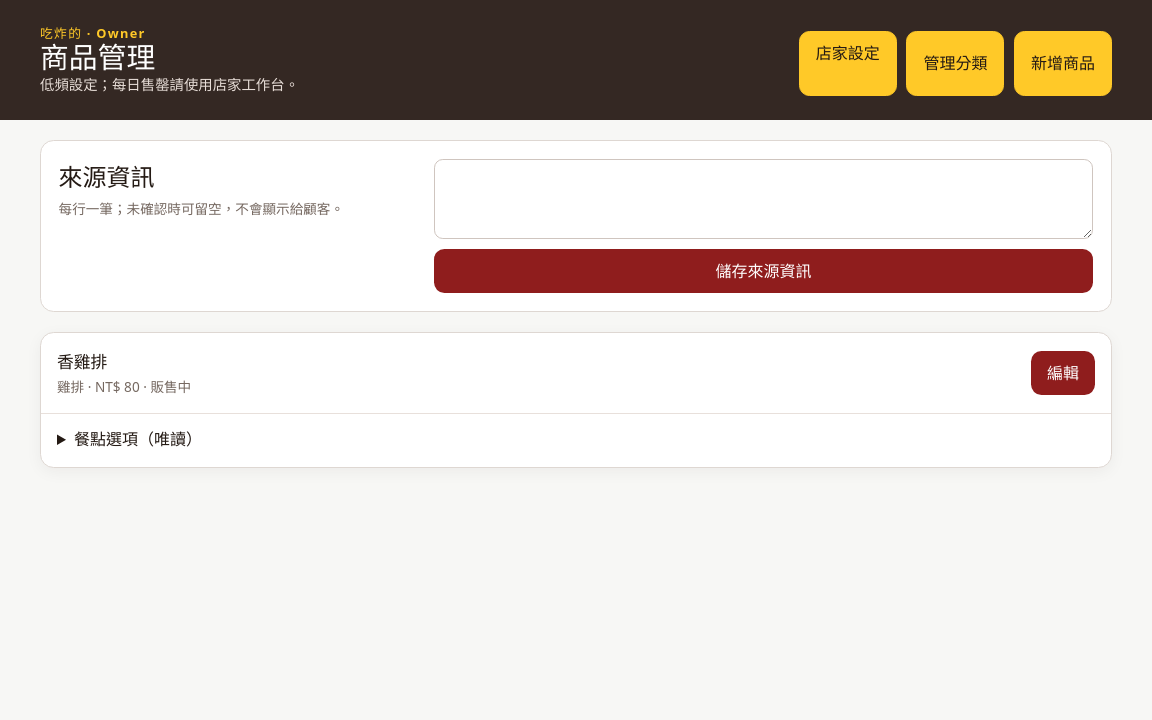
Scenario: Admin menu UI › renders only on the explicit Admin route with read-only modifier visibility
Expected: the heading "商品管理" is shown, [40, 37, 155, 76]
Expected: the heading "香雞排" is shown, [57, 350, 107, 373]
Click the heading "餐點選項（唯讀）".
click(138, 439)  # box [74, 428, 202, 450]
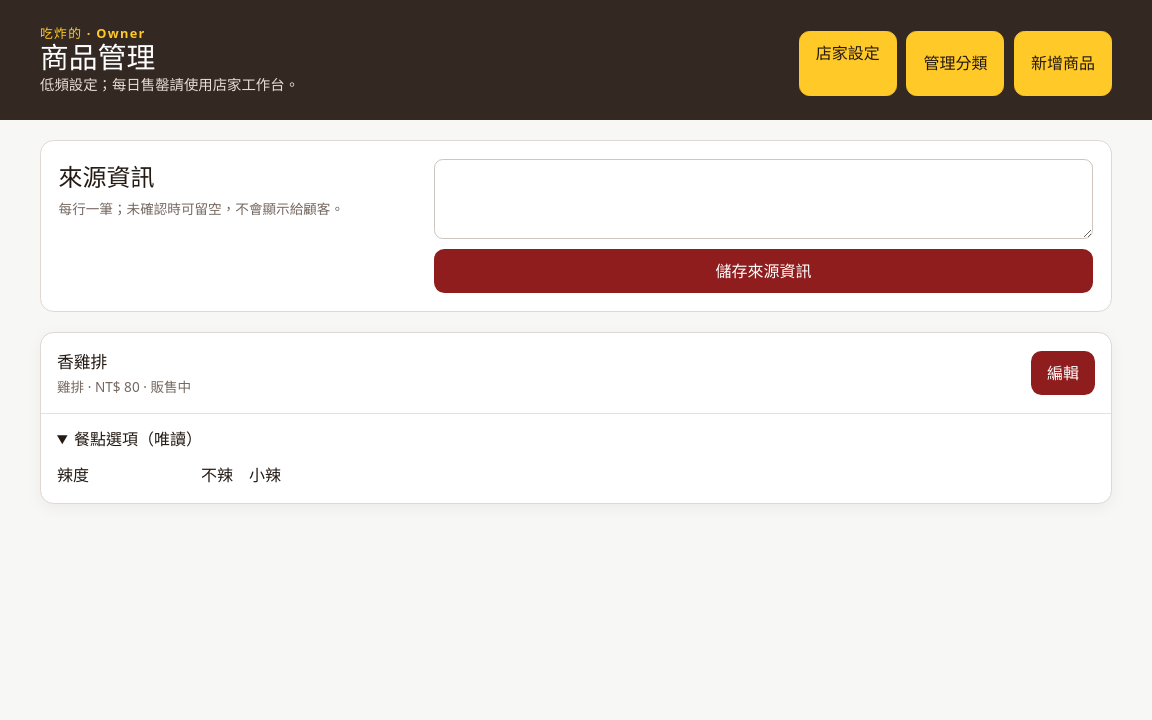
Expected: the text "辣度" is shown, [57, 464, 89, 486]
Expected: the list item "不辣" is shown, [201, 463, 233, 487]
